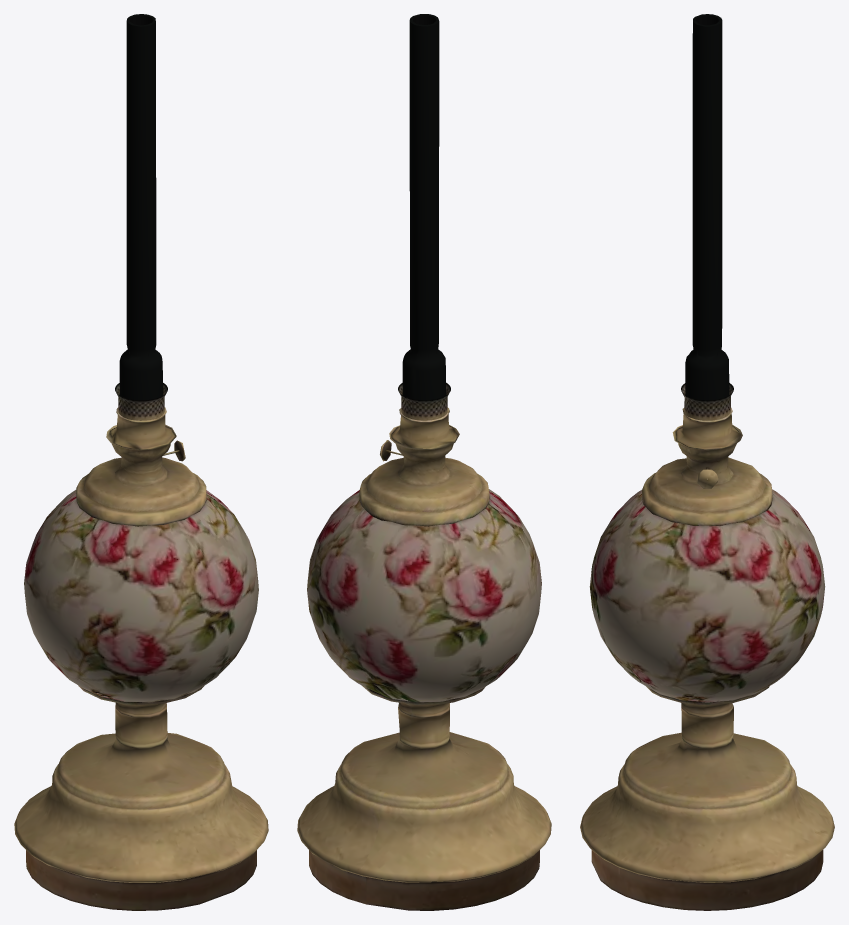
Rendered from oil_lamp.glb.
3 renders of one model, left to right at view 1: azimuth 30°, elevation 25°; view 2: azimuth 150°, elevation 25°; view 3: azimuth 270°, elevation 25°, orthographic.
Parts seen in each view (by area): view 1: vintage_oil_lamp, vintage_oil_lamp_glass; view 2: vintage_oil_lamp, vintage_oil_lamp_glass; view 3: vintage_oil_lamp, vintage_oil_lamp_glass.
Boxes of the visible parts, bbox=[...] form: vintage_oil_lamp: bbox=[14, 407, 268, 910]; vintage_oil_lamp_glass: bbox=[115, 14, 167, 420]; vintage_oil_lamp: bbox=[297, 407, 551, 910]; vintage_oil_lamp_glass: bbox=[398, 14, 450, 420]; vintage_oil_lamp: bbox=[580, 407, 834, 910]; vintage_oil_lamp_glass: bbox=[681, 14, 733, 420].
Bounding box in the file's own units: 0.22 × 0.8016 × 0.22.
3 materials, 3 textured.
